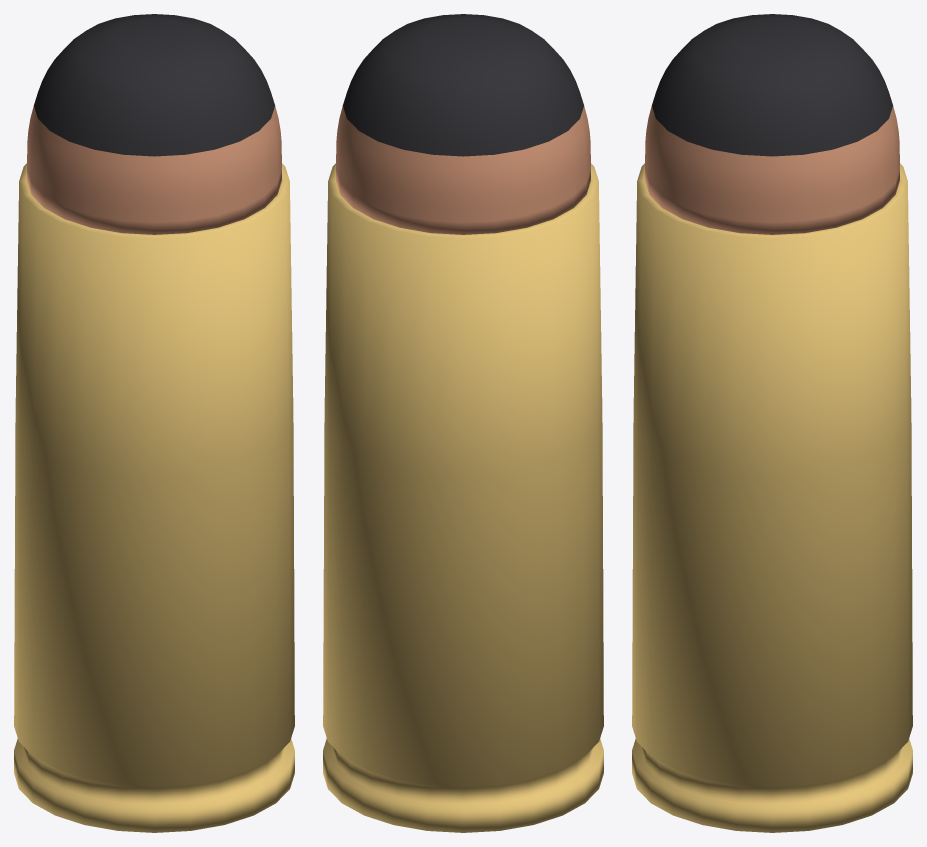
3 views of the same model, side by side, from view 1: azimuth 30°, elevation 25°; view 2: azimuth 150°, elevation 25°; view 3: azimuth 270°, elevation 25° (orthographic).
Parts seen in each view (by area): view 1: vaina, punta, bala_cuerpo; view 2: vaina, punta, bala_cuerpo; view 3: vaina, punta, bala_cuerpo.
Part boxes in pixels (<box>): vaina: <box>14,163,294,832</box>; punta: <box>34,14,274,156</box>; bala_cuerpo: <box>27,106,281,234</box>; vaina: <box>323,163,603,832</box>; punta: <box>343,14,583,156</box>; bala_cuerpo: <box>336,106,590,234</box>; vaina: <box>632,163,912,832</box>; punta: <box>652,14,892,156</box>; bala_cuerpo: <box>645,106,899,234</box>.
Size of the model in its own units: 0.014 by 0.0406 by 0.014.
